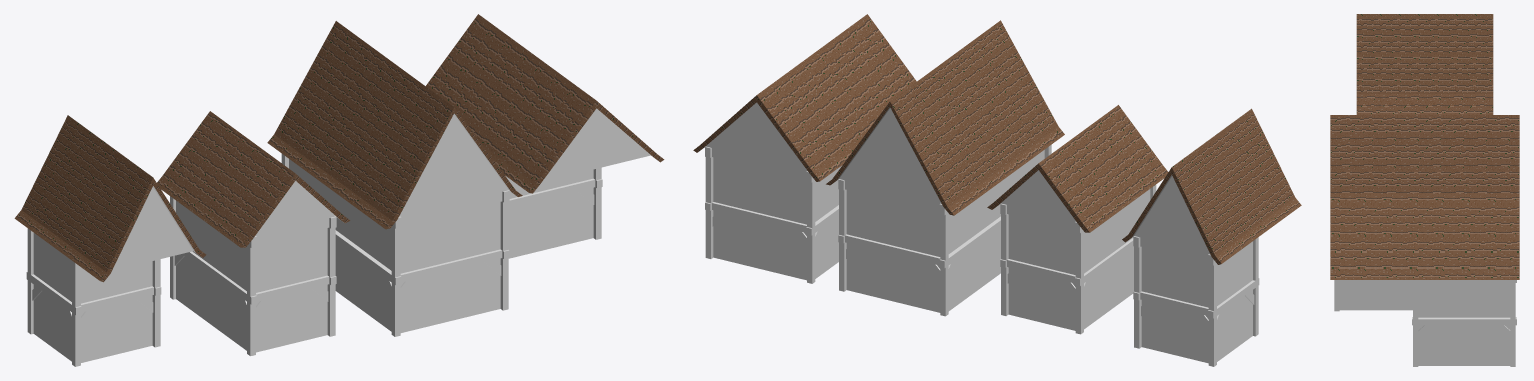
The model's file is mod_houses_base.fbx.
The picture shows the model from 3 angles, left to right: view 1: azimuth 30°, elevation 25°; view 2: azimuth 150°, elevation 25°; view 3: azimuth 270°, elevation 25°; orthographic projection. The views are drawn at different scales.
Visible parts, largest first — view 1: house_wide_roof_tall, house_wide_roof_short, house_narrow_roof_tall, house_narrow_roof_short, house_wide_ground, house_narrow_ground, house_wide_upper, house_narrow_ground._square, house_narrow_upper, house_wide_ground_square, house_narrow_upper_square, house_wide_upper_square; view 2: house_wide_roof_tall, house_wide_roof_short, house_narrow_roof_tall, house_narrow_roof_short, house_wide_ground, house_wide_upper, house_wide_ground_square, house_narrow_ground, house_narrow_ground._square, house_wide_upper_square, house_narrow_upper, house_narrow_upper_square; view 3: house_wide_roof_short, house_wide_roof_tall, house_narrow_roof_tall, house_wide_ground_square, house_wide_upper_square, house_narrow_roof_short, house_wide_ground.
Part boxes in pixels (<box>): house_wide_roof_tall: <box>267,21,522,229</box>; house_wide_roof_short: <box>426,14,664,193</box>; house_narrow_roof_tall: <box>14,115,206,282</box>; house_narrow_roof_short: <box>157,111,350,247</box>; house_wide_ground: <box>335,230,509,336</box>; house_narrow_ground: <box>170,251,336,356</box>; house_wide_upper: <box>281,154,509,277</box>; house_narrow_ground._square: <box>26,272,161,366</box>; house_narrow_upper: <box>170,196,336,296</box>; house_wide_ground_square: <box>508,178,602,258</box>; house_narrow_upper_square: <box>27,228,160,307</box>; house_wide_upper_square: <box>505,167,601,198</box>; house_wide_roof_tall: <box>826,20,1064,215</box>; house_wide_roof_short: <box>693,14,916,181</box>; house_narrow_roof_tall: <box>1122,108,1301,264</box>; house_narrow_roof_short: <box>987,105,1168,232</box>; house_wide_ground: <box>838,216,1000,316</box>; house_wide_upper: <box>838,145,1051,260</box>; house_wide_ground_square: <box>705,202,838,283</box>; house_narrow_ground: <box>1000,238,1133,334</box>; house_narrow_ground._square: <box>1133,278,1259,366</box>; house_wide_upper_square: <box>705,146,842,227</box>; house_narrow_upper: <box>1000,184,1156,278</box>; house_narrow_upper_square: <box>1133,236,1258,310</box>; house_wide_roof_short: <box>1330,193,1519,279</box>; house_wide_roof_tall: <box>1330,115,1519,192</box>; house_narrow_roof_tall: <box>1356,14,1493,93</box>; house_wide_ground_square: <box>1412,280,1516,366</box>; house_wide_upper_square: <box>1413,280,1515,319</box>; house_narrow_roof_short: <box>1356,94,1493,114</box>; house_wide_ground: <box>1334,280,1412,311</box>.
Bounding box in the file's own units: 38.52 × 14.62 × 14.4.
